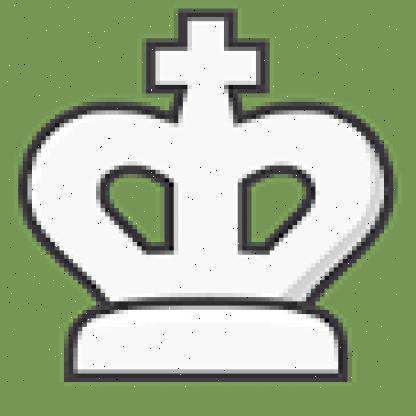White King: (5, 2, 399, 389)
